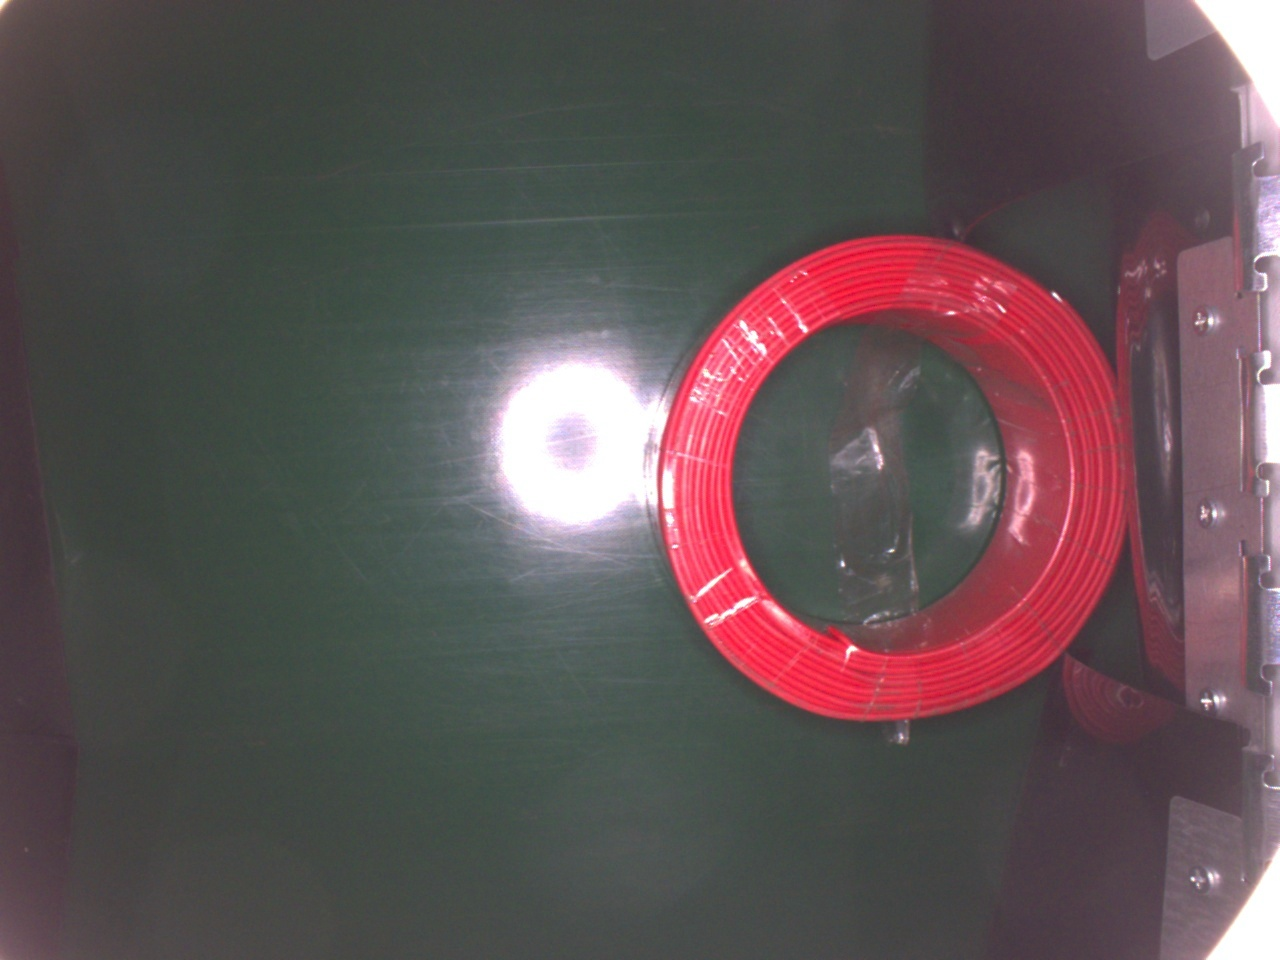red: (649, 225, 1135, 722)
